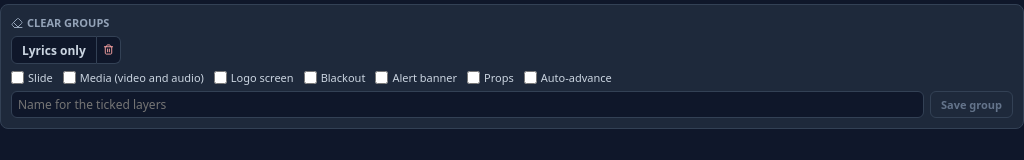
ClearGroupsControl › shows a deleted group as an error when it is run
Click the button with test id "clear-group-run" at (54, 50), box 11,36 -> 97,64
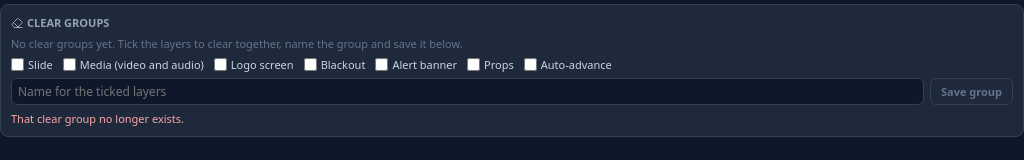
Expected: the message with test id "clear-group-error" shows "no longer exists", 11,111 -> 184,126
